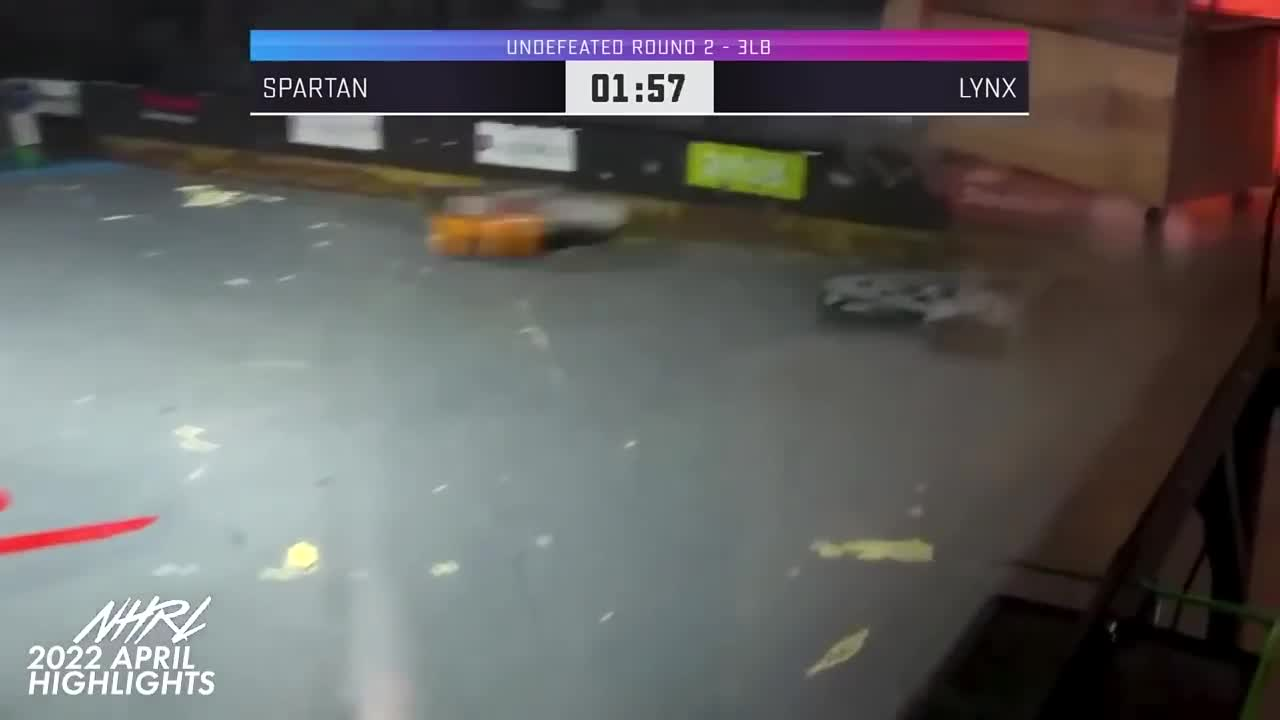combatbot: (815, 267, 1062, 358), (417, 178, 637, 265)
